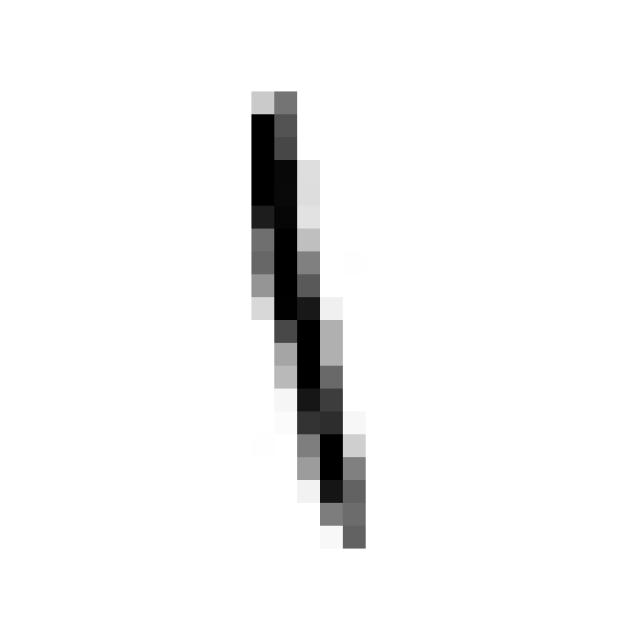1 -one-: (222, 71, 382, 566)
